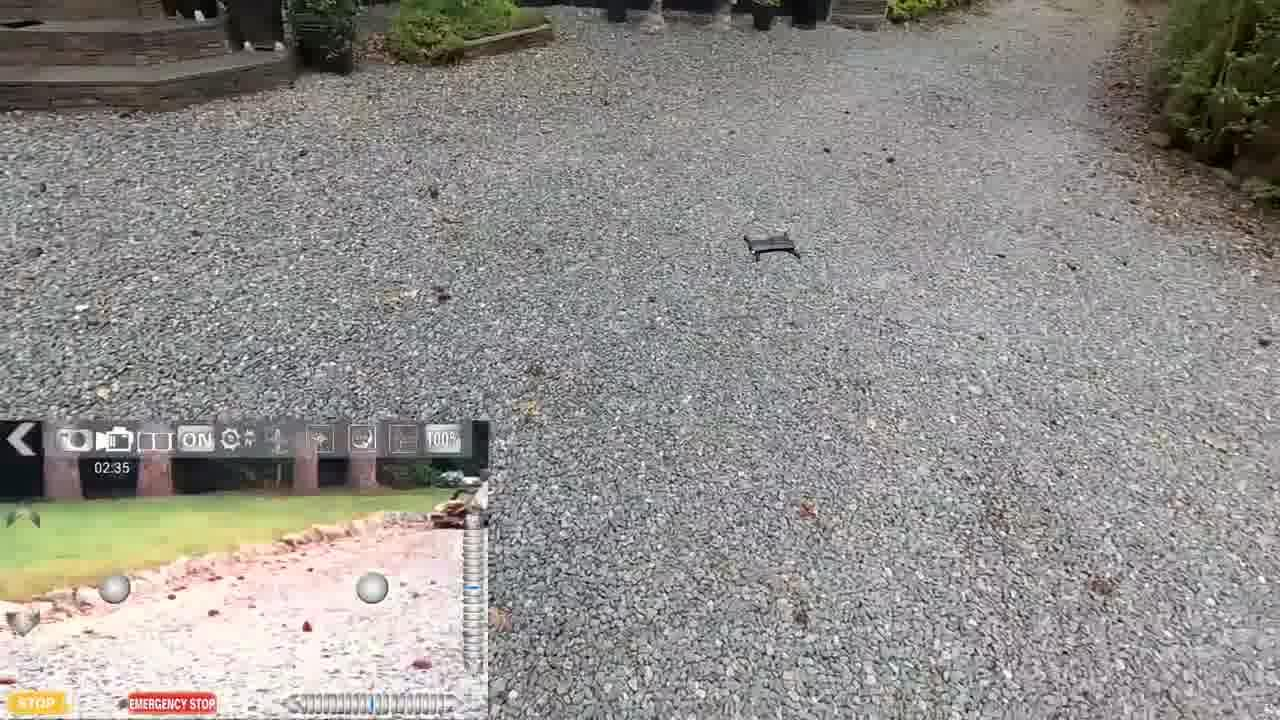drone: (728, 219, 813, 268)
